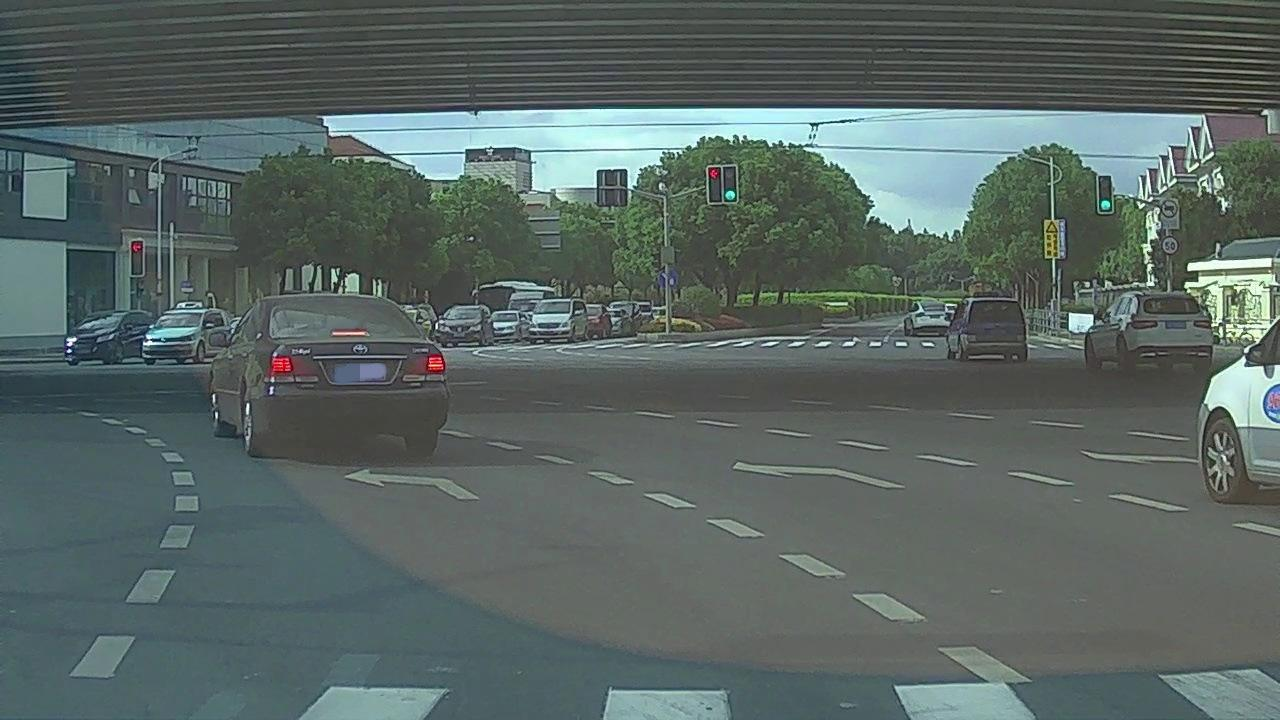traffic_light: (722, 165, 738, 203), (1097, 176, 1113, 213), (130, 237, 145, 276), (707, 166, 721, 202)
